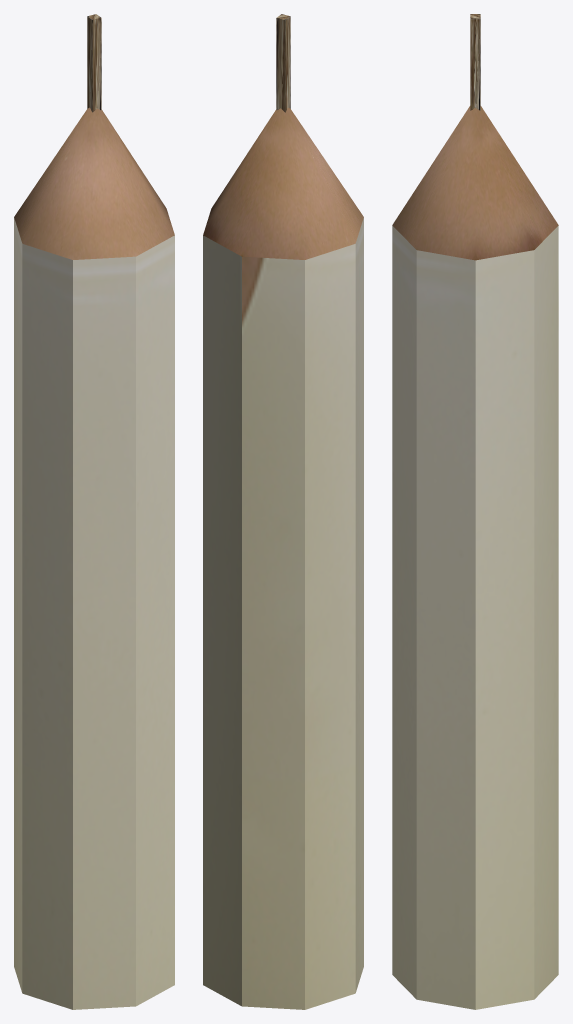
Rendered from Prop_sm_Candle_Stick.fbx.
3 views of the same model, side by side, from view 1: azimuth 30°, elevation 25°; view 2: azimuth 150°, elevation 25°; view 3: azimuth 270°, elevation 25° (orthographic).
Visible parts, largest first — view 1: Candle_Stick; view 2: Candle_Stick; view 3: Candle_Stick.
Part boxes in pixels (x1,y1,x2,y2): Candle_Stick: (14, 14, 174, 1009); Candle_Stick: (203, 14, 363, 1009); Candle_Stick: (392, 14, 558, 1009).
Bounding box in the file's own units: 0.0473 × 0.3002 × 0.0473.
1 material, 1 textured.
